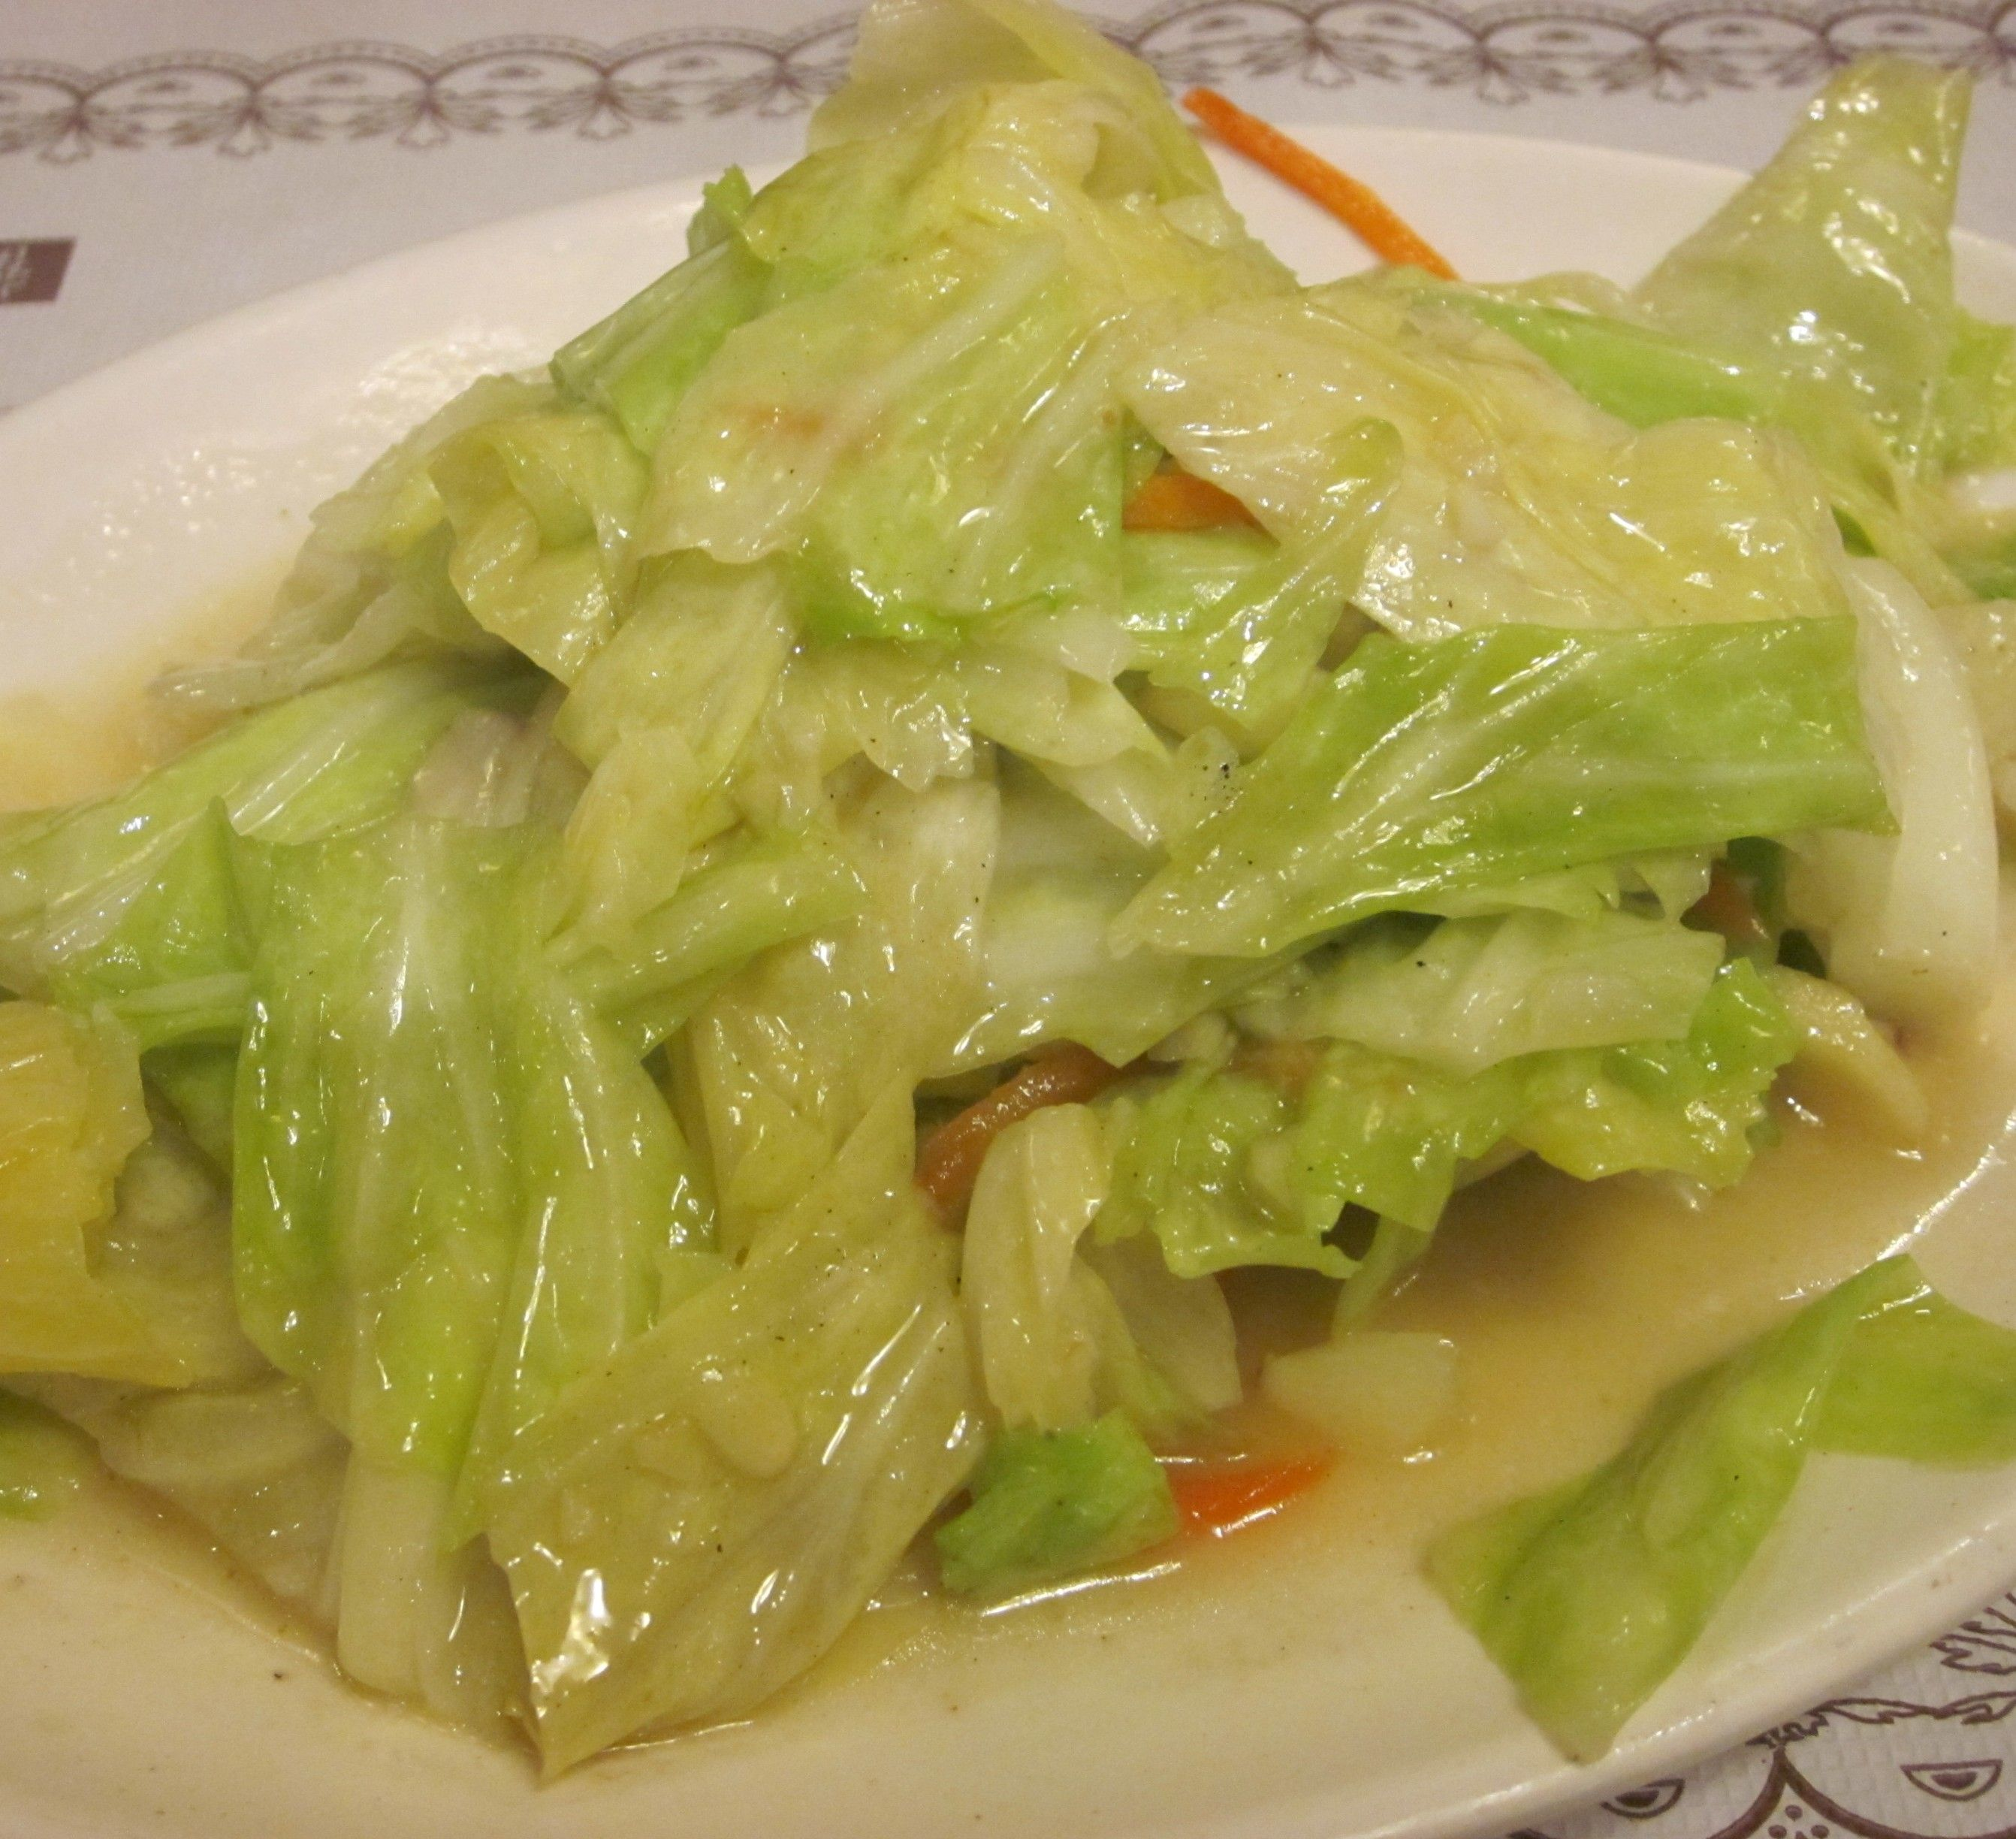chinese_cabbage: (107, 241, 1907, 1574), (177, 1029, 1010, 1662), (1047, 258, 1861, 785), (430, 260, 1284, 727), (97, 720, 736, 1330), (896, 750, 1679, 1244), (274, 506, 1040, 1010), (838, 72, 1261, 710)
